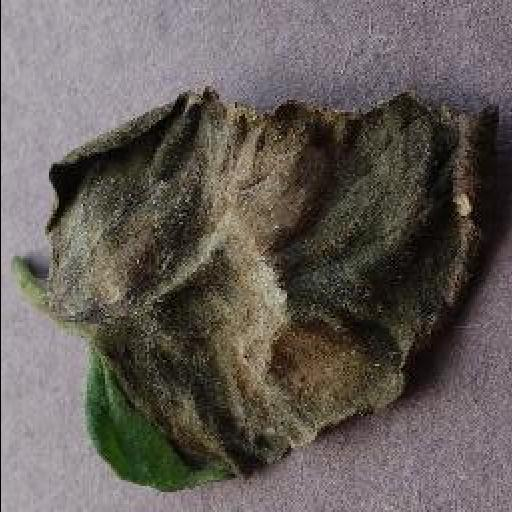disease_tomato: (44, 86, 506, 492)
